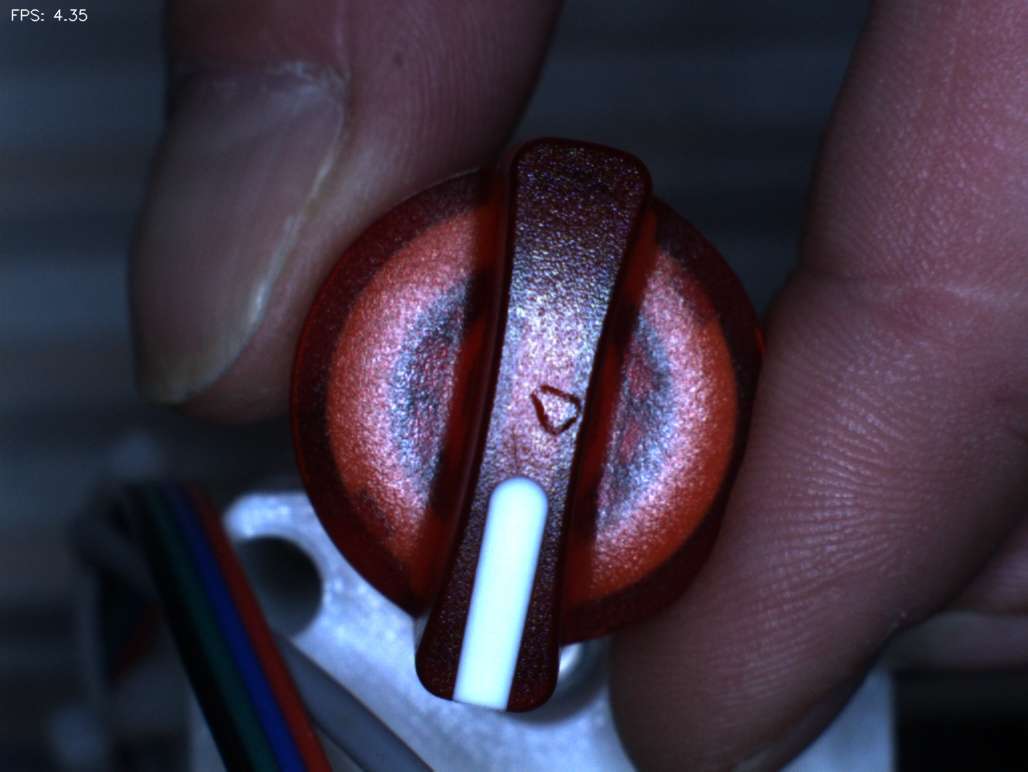Choc: (517, 365, 602, 450)
